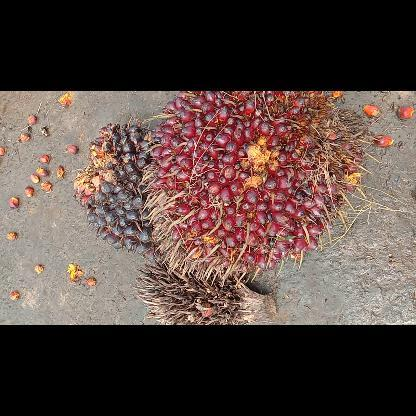Janjang kosong: (132, 256, 276, 324)
TBS masak: (137, 90, 373, 286)
TBS mentah: (73, 123, 167, 261)
